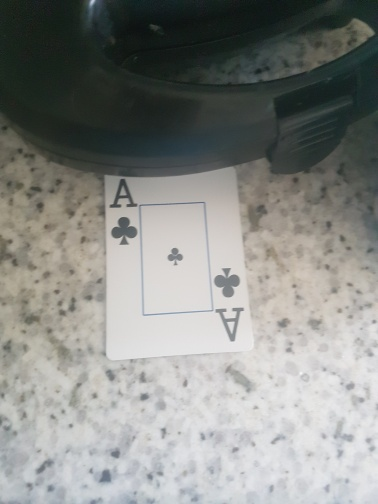ace: (106, 166, 257, 359)
